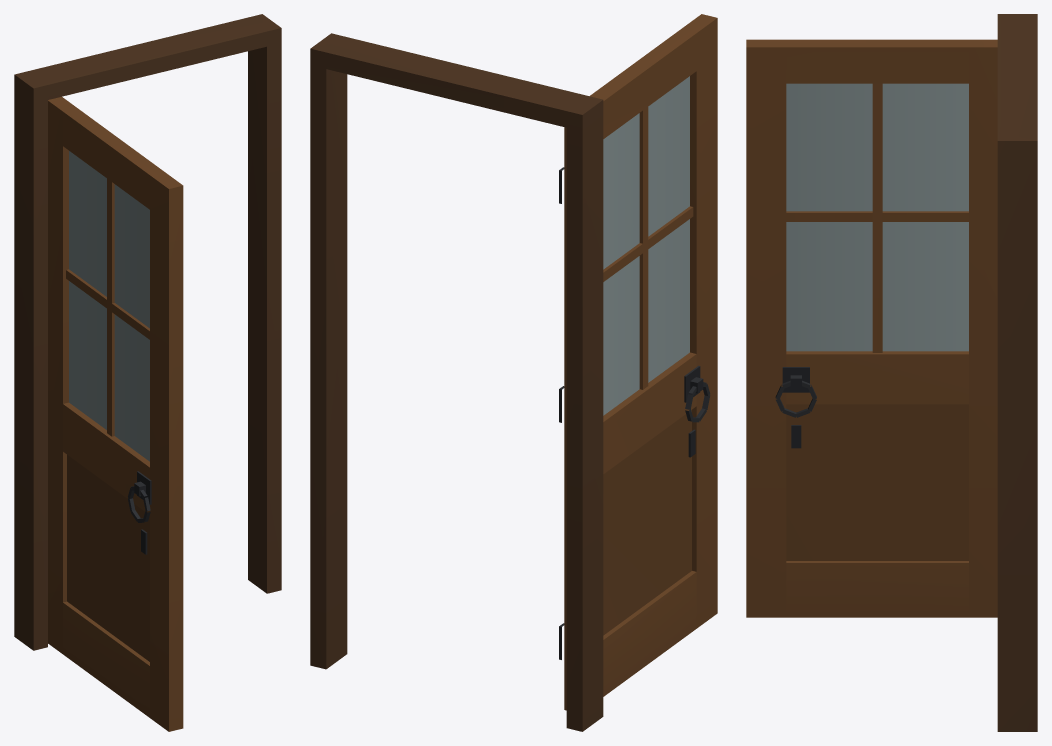
File: door.oak_slim_open.glazed.glb
The picture shows the model from 3 angles, left to right: view 1: azimuth 30°, elevation 25°; view 2: azimuth 150°, elevation 25°; view 3: azimuth 270°, elevation 25°; orthographic projection. The views are drawn at different scales.
Visible parts, largest first — view 1: door_oak_slim_open_glazed; view 2: door_oak_slim_open_glazed; view 3: door_oak_slim_open_glazed.
Boxes of the visible parts, x1,y1,x2,y2 form: door_oak_slim_open_glazed: (14,14,281,731); door_oak_slim_open_glazed: (310,14,717,731); door_oak_slim_open_glazed: (746,14,1037,731).
Size of what is drawn, in the model's own units: 1.2 by 2.6 by 1.16.
